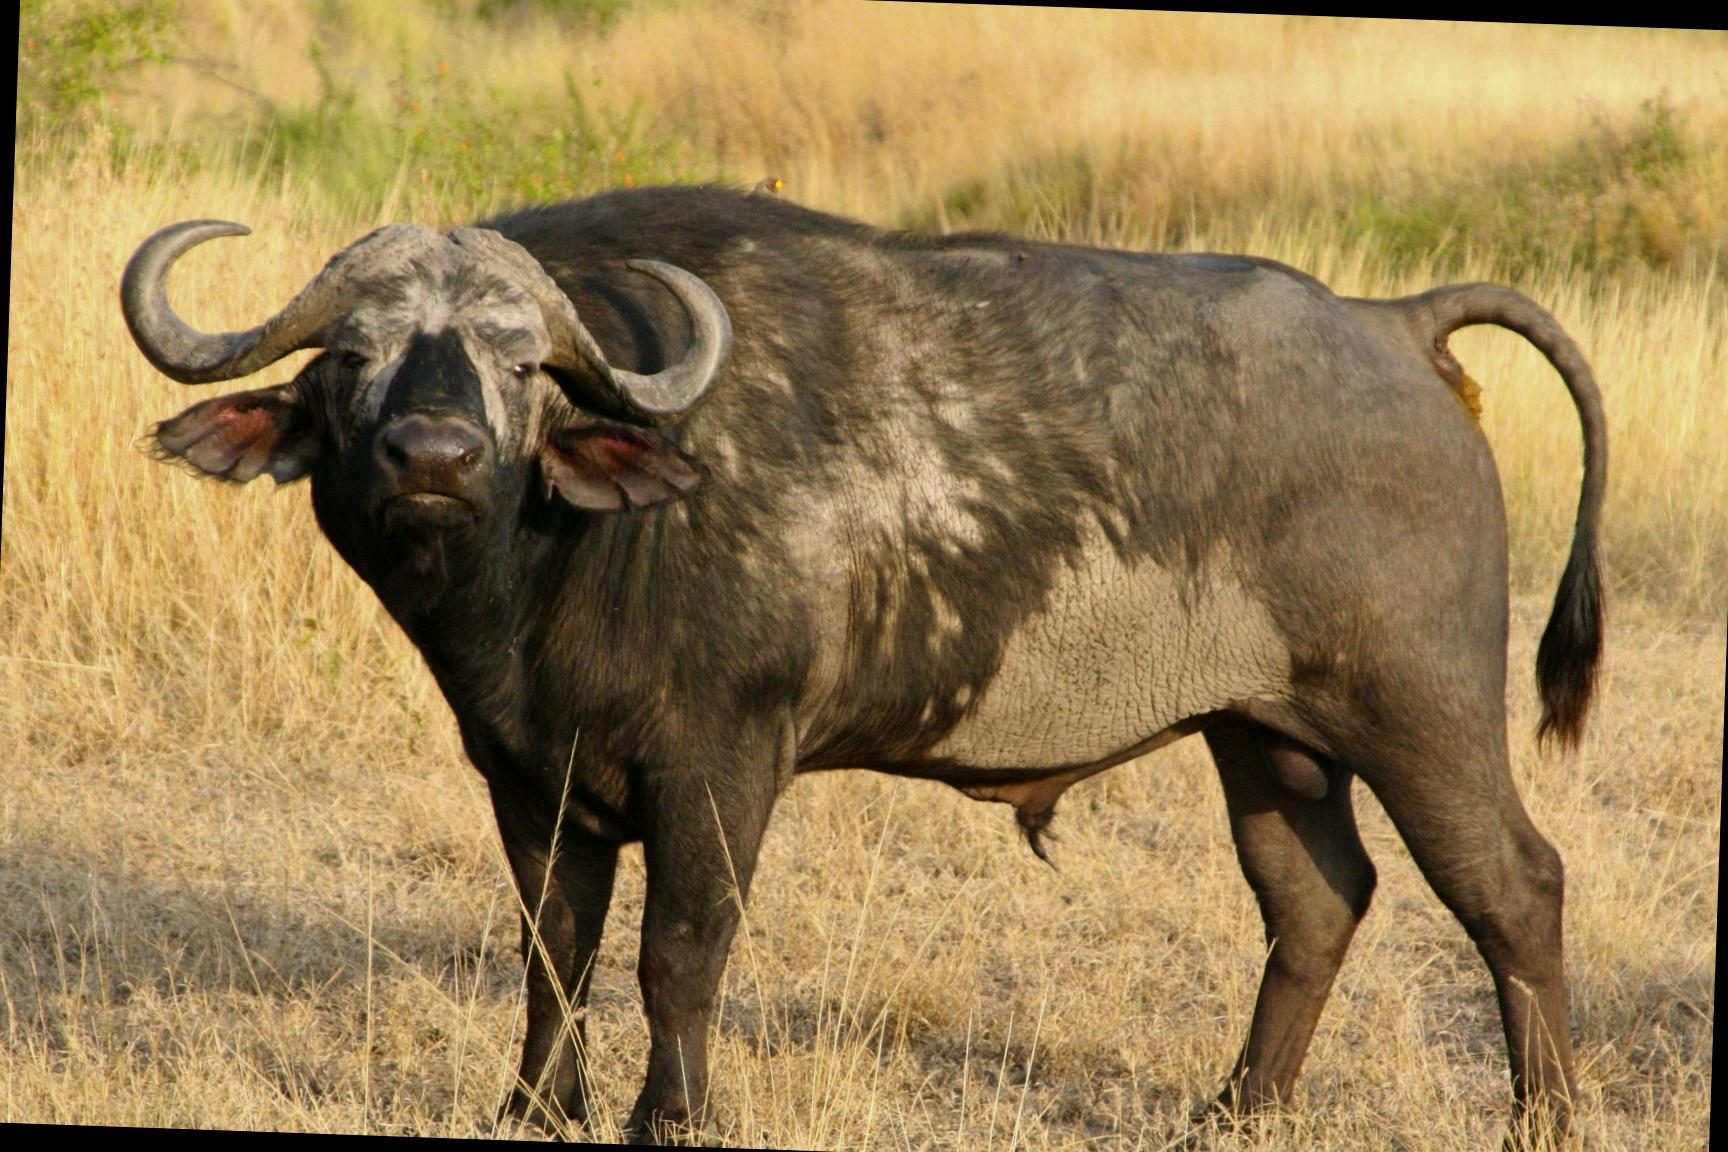Buffalo: (0, 0, 1686, 1152)
